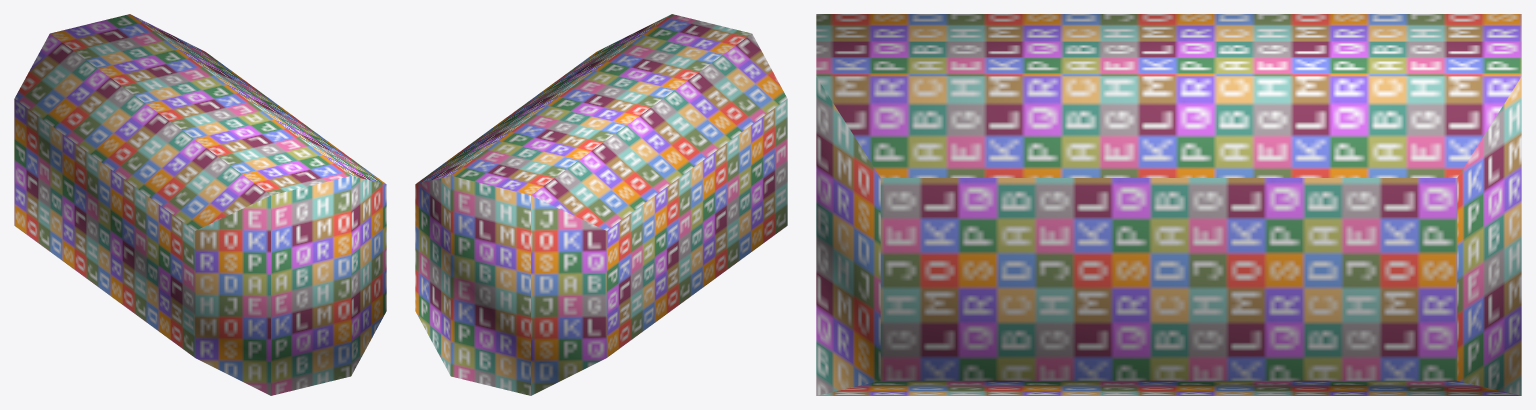
The model's file is wall.obj.
The picture shows the model from 3 angles, left to right: view 1: azimuth 30°, elevation 25°; view 2: azimuth 150°, elevation 25°; view 3: azimuth 270°, elevation 25°; orthographic projection. The views are drawn at different scales.
Visible parts, largest first — view 1: Cube5; view 2: Cube5; view 3: Cube5.
Boxes of the visible parts, box(x1,y1,x2,y2) form: Cube5: box(14, 14, 386, 395); Cube5: box(415, 14, 787, 395); Cube5: box(816, 14, 1521, 395).
Size of the model in its own units: 2 by 2 by 4.
1 material, 1 textured.
